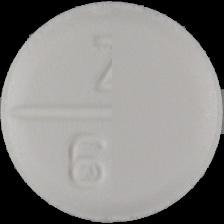10544-031: (0, 0, 224, 224)
